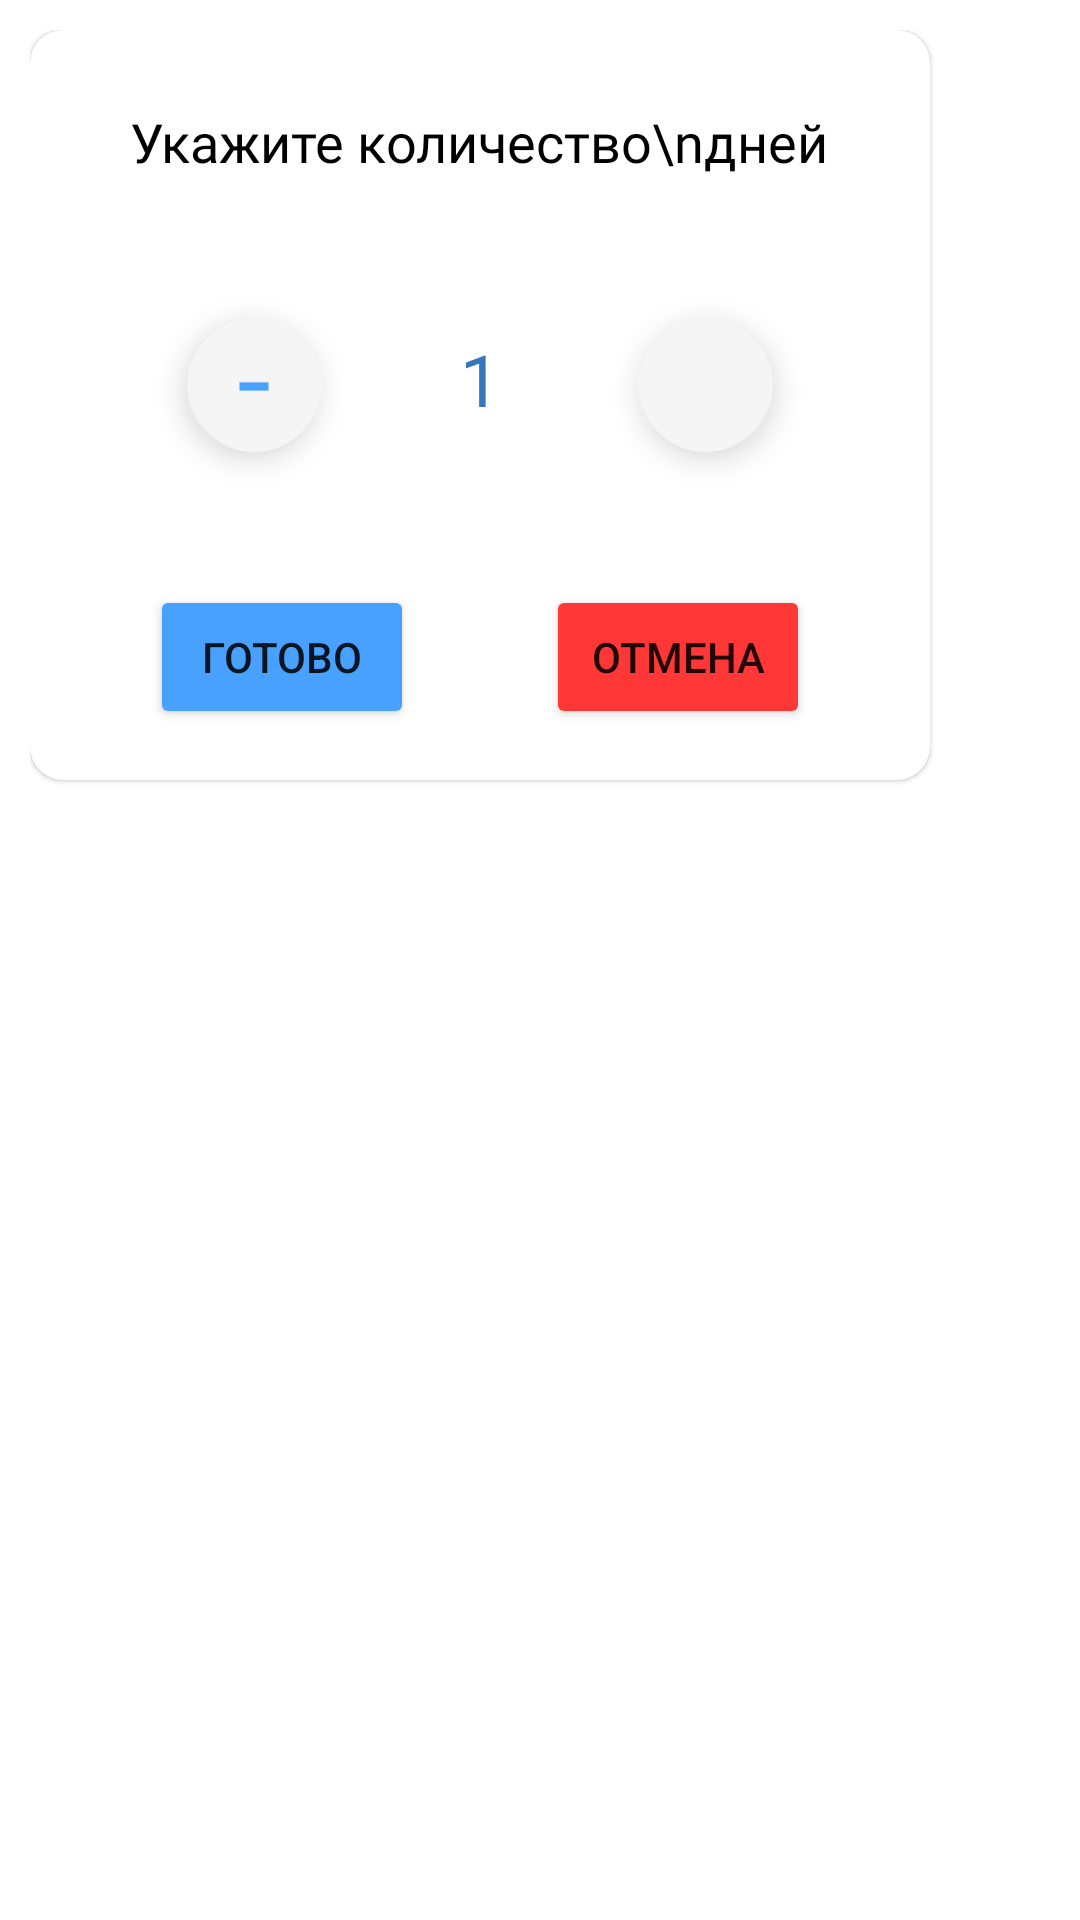

Screen size 1080px x 1920px. Icon name, then its center in pixels as [x,y]:
minus: [254,386]
